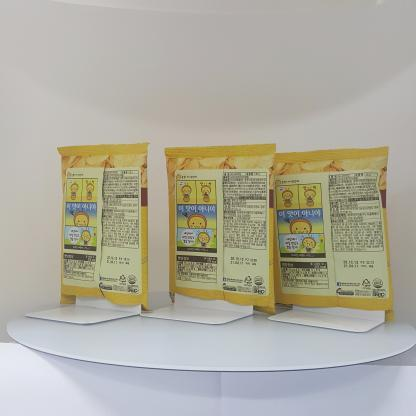Plastic Packaging: (162, 136, 280, 322), (48, 137, 152, 319), (285, 138, 391, 312)
